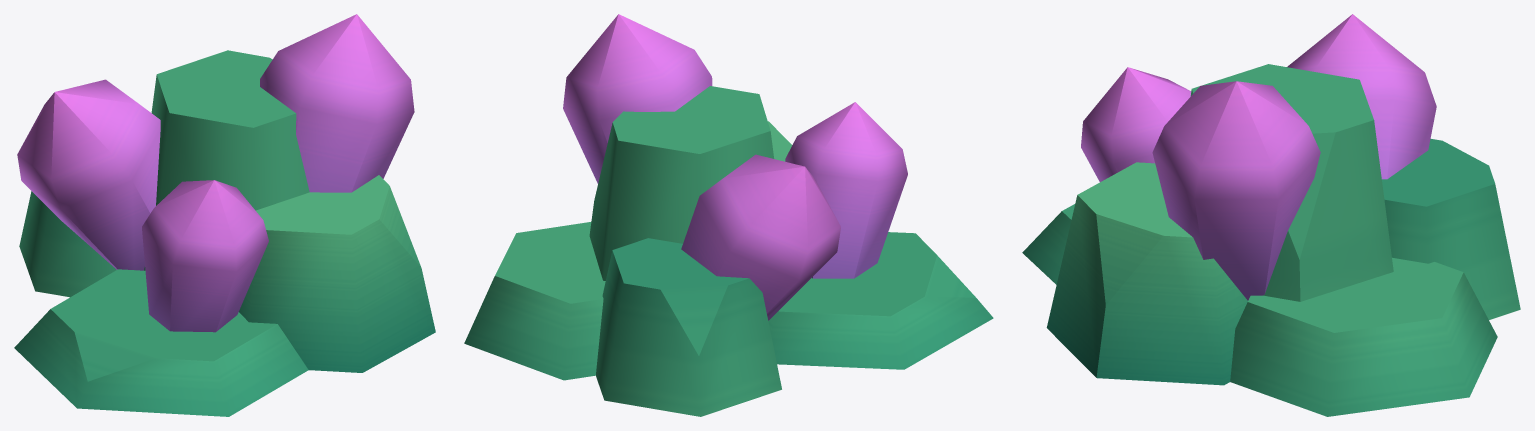
The model's file is detail-crystal-large.gltf.
The picture shows the model from 3 angles, left to right: view 1: azimuth 30°, elevation 25°; view 2: azimuth 150°, elevation 25°; view 3: azimuth 270°, elevation 25°; orthographic projection. The views are drawn at different scales.
Parts seen in each view (by area): view 1: detail-crystal-large; view 2: detail-crystal-large; view 3: detail-crystal-large.
Boxes of the visible parts, x1,y1,x2,y2 form: detail-crystal-large: (14, 14, 435, 416); detail-crystal-large: (464, 14, 993, 416); detail-crystal-large: (1022, 14, 1520, 416).
Size of the model in its own units: 0.8922 by 0.5518 by 0.8593.
1 material, 1 textured.
